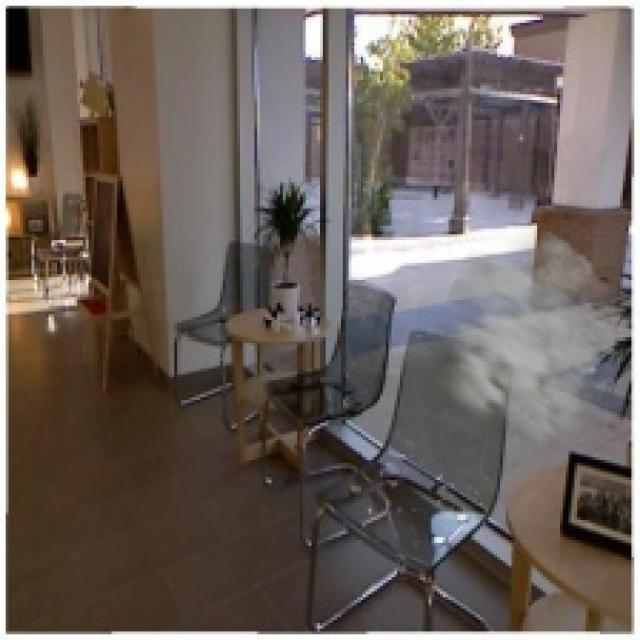Smoke: (408, 220, 634, 454)
